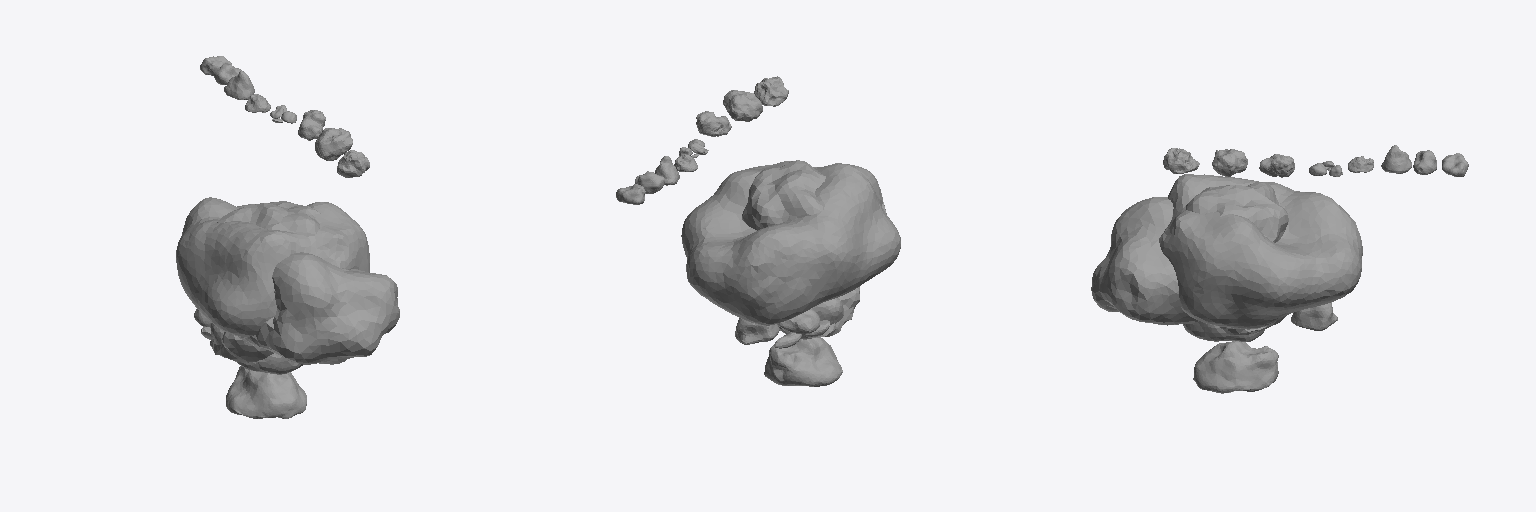
Rendered from Rock_Pack_8pc_OBJ.obj.
3 views of the same model, side by side, from view 1: azimuth 30°, elevation 25°; view 2: azimuth 150°, elevation 25°; view 3: azimuth 270°, elevation 25° (orthographic).
Parts seen in each view (by area): view 1: Icosphere.004, Icosphere.003, Icosphere.001, Icosphere.002, Icosphere, Icosphere.005_Icosphere.006, Icosphere.008_Icosphere.014, Icosphere.009_Icosphere.015, Icosphere.013_Icosphere.018; view 2: Icosphere.004, Icosphere.003, Icosphere.001, Icosphere.010_Icosphere.011, Icosphere, Icosphere.008_Icosphere.014, Icosphere.009_Icosphere.015, Icosphere.002, Icosphere.005_Icosphere.006; view 3: Icosphere.004, Icosphere.003, Icosphere.001, Icosphere.010_Icosphere.011, Icosphere.005_Icosphere.006, Icosphere, Icosphere.008_Icosphere.014, Icosphere.009_Icosphere.015, Icosphere.013_Icosphere.018.
Part boxes in pixels (x1,y1,x2,y2): Icosphere.004: (176, 197, 369, 337); Icosphere.003: (217, 201, 399, 364); Icosphere.001: (226, 366, 306, 418); Icosphere.002: (210, 332, 273, 362); Icosphere: (315, 128, 352, 160); Icosphere.005_Icosphere.006: (211, 323, 302, 374); Icosphere.008_Icosphere.014: (337, 150, 369, 177); Icosphere.009_Icosphere.015: (298, 110, 325, 140); Icosphere.013_Icosphere.018: (224, 71, 254, 99); Icosphere.004: (681, 161, 900, 325); Icosphere.003: (742, 160, 886, 230); Icosphere.001: (764, 337, 842, 386); Icosphere.010_Icosphere.011: (735, 309, 829, 348); Icosphere: (723, 90, 762, 121); Icosphere.008_Icosphere.014: (754, 76, 788, 106); Icosphere.009_Icosphere.015: (696, 111, 731, 136); Icosphere.002: (777, 287, 859, 337); Icosphere.005_Icosphere.006: (778, 298, 843, 339); Icosphere.004: (1159, 174, 1362, 329); Icosphere.003: (1091, 182, 1288, 325); Icosphere.001: (1193, 341, 1278, 393); Icosphere.010_Icosphere.011: (1275, 302, 1337, 330); Icosphere.005_Icosphere.006: (1183, 321, 1264, 341); Icosphere: (1212, 149, 1247, 176); Icosphere.008_Icosphere.014: (1163, 148, 1199, 173); Icosphere.009_Icosphere.015: (1259, 154, 1294, 177); Icosphere.013_Icosphere.018: (1381, 145, 1411, 173).
Size of the model in its own units: 10.58 by 15.52 by 20.08.